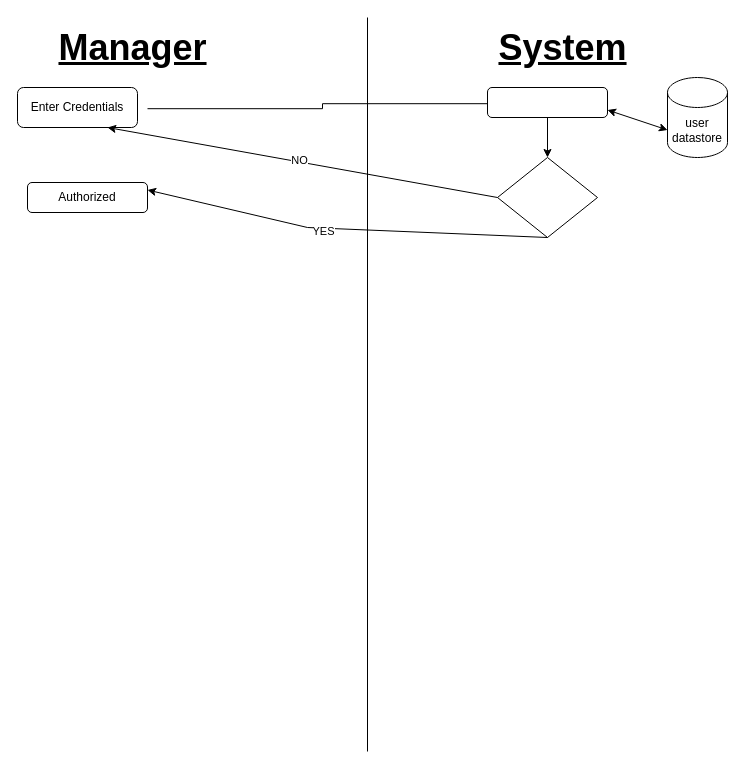
Image size: 745x770. Some labels were removed from this diagram. Each missing label, with the box of its shape:
Authorized?: (496, 156, 598, 238)
Check Credentials: (486, 86, 608, 118)
